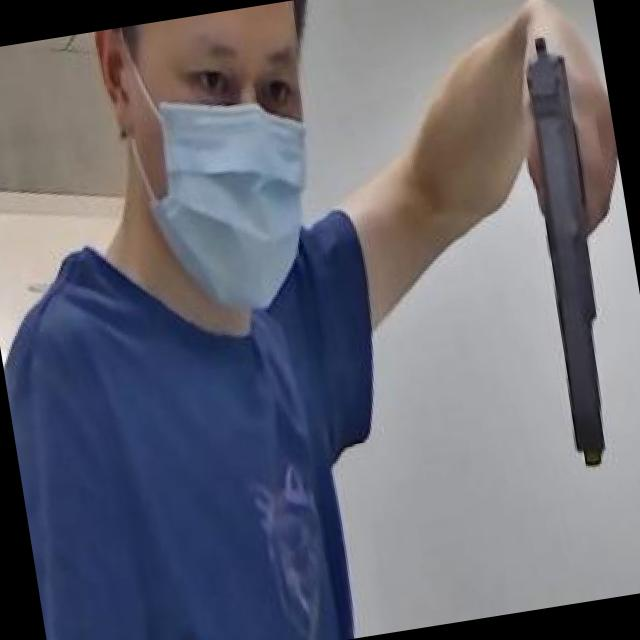Guns: (453, 0, 640, 501)
